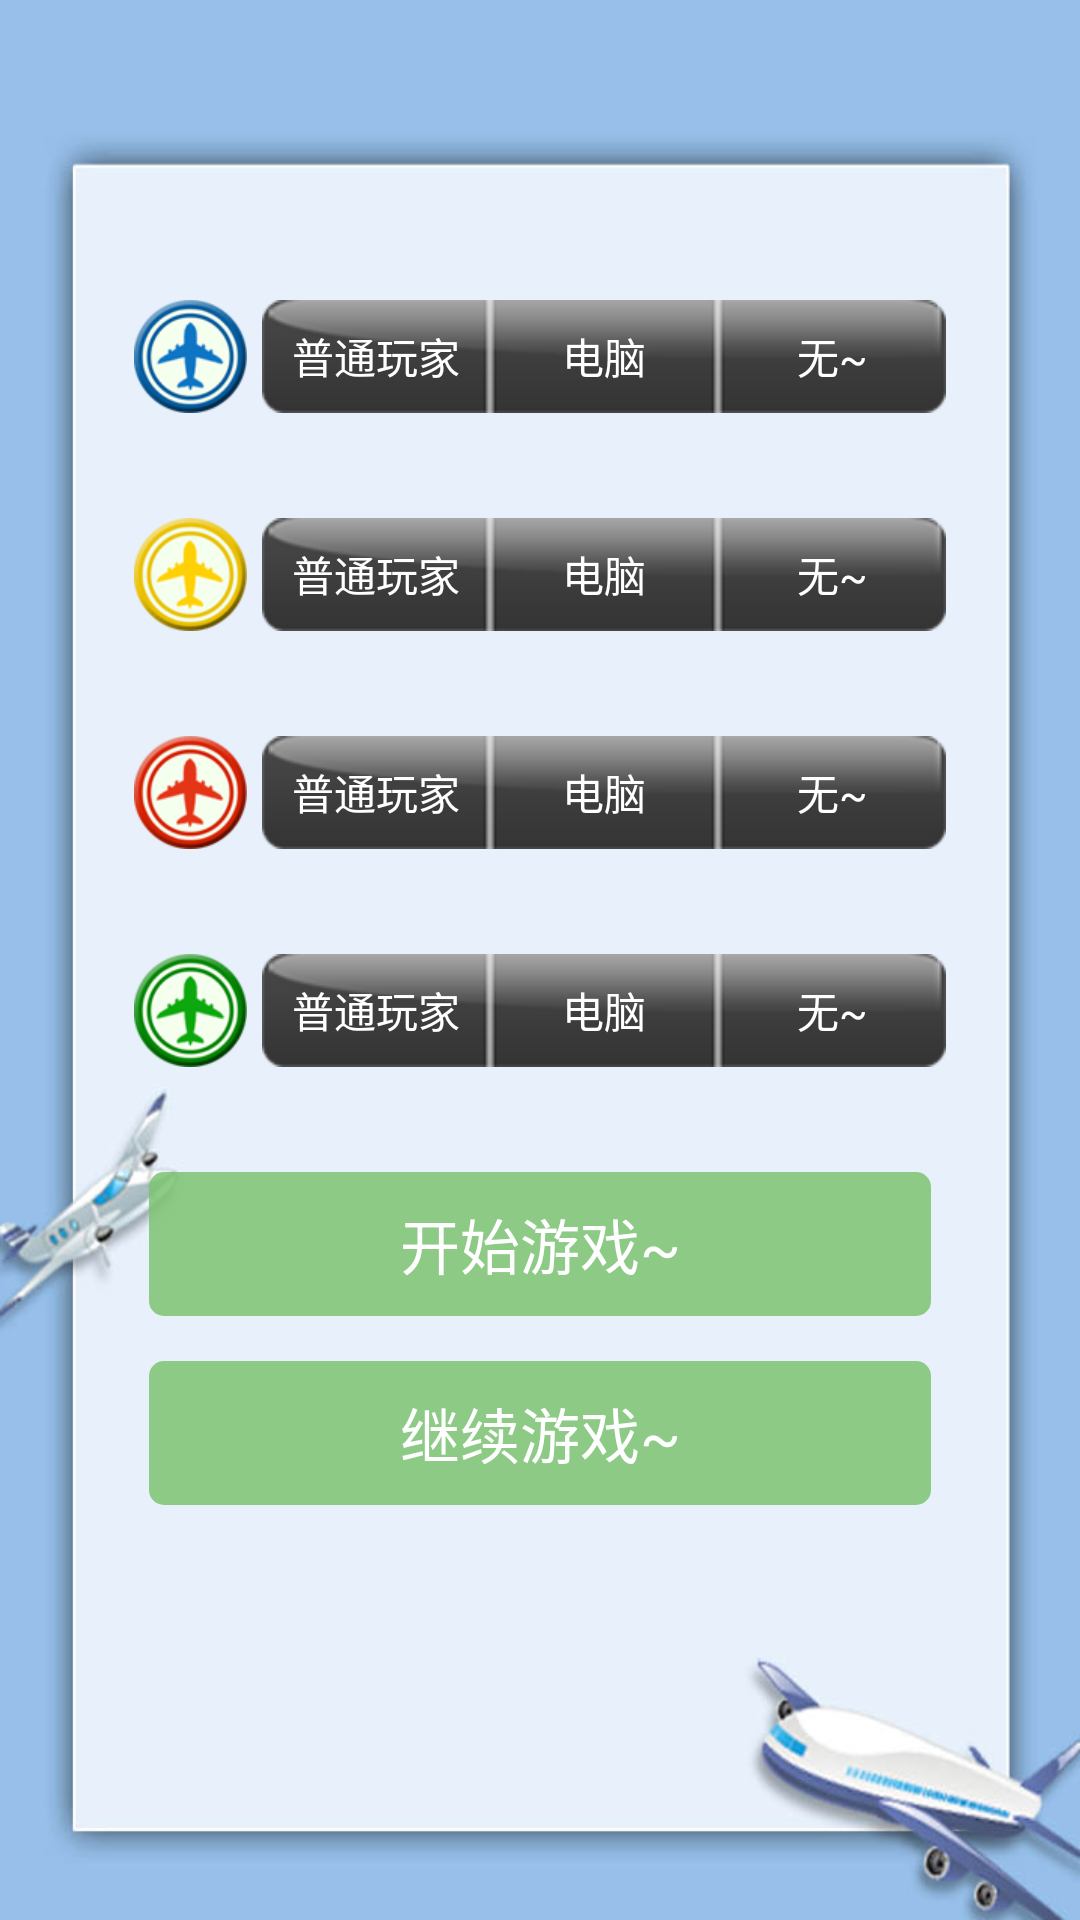

Named icons in this screenshot (1080px x 1920px) and their bounding boxes, (x1, y1, x2, y2):
plane: (134, 300, 247, 413), (134, 518, 247, 631), (134, 736, 247, 849), (134, 954, 247, 1067)
